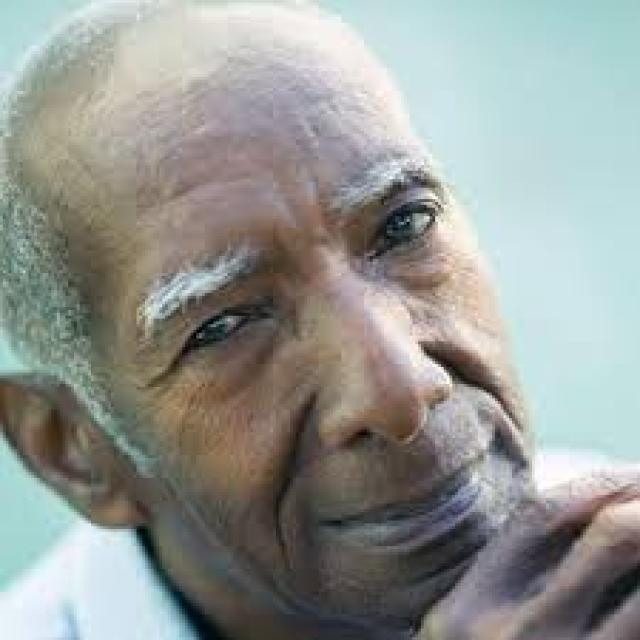stroke_face: (17, 5, 545, 626)
